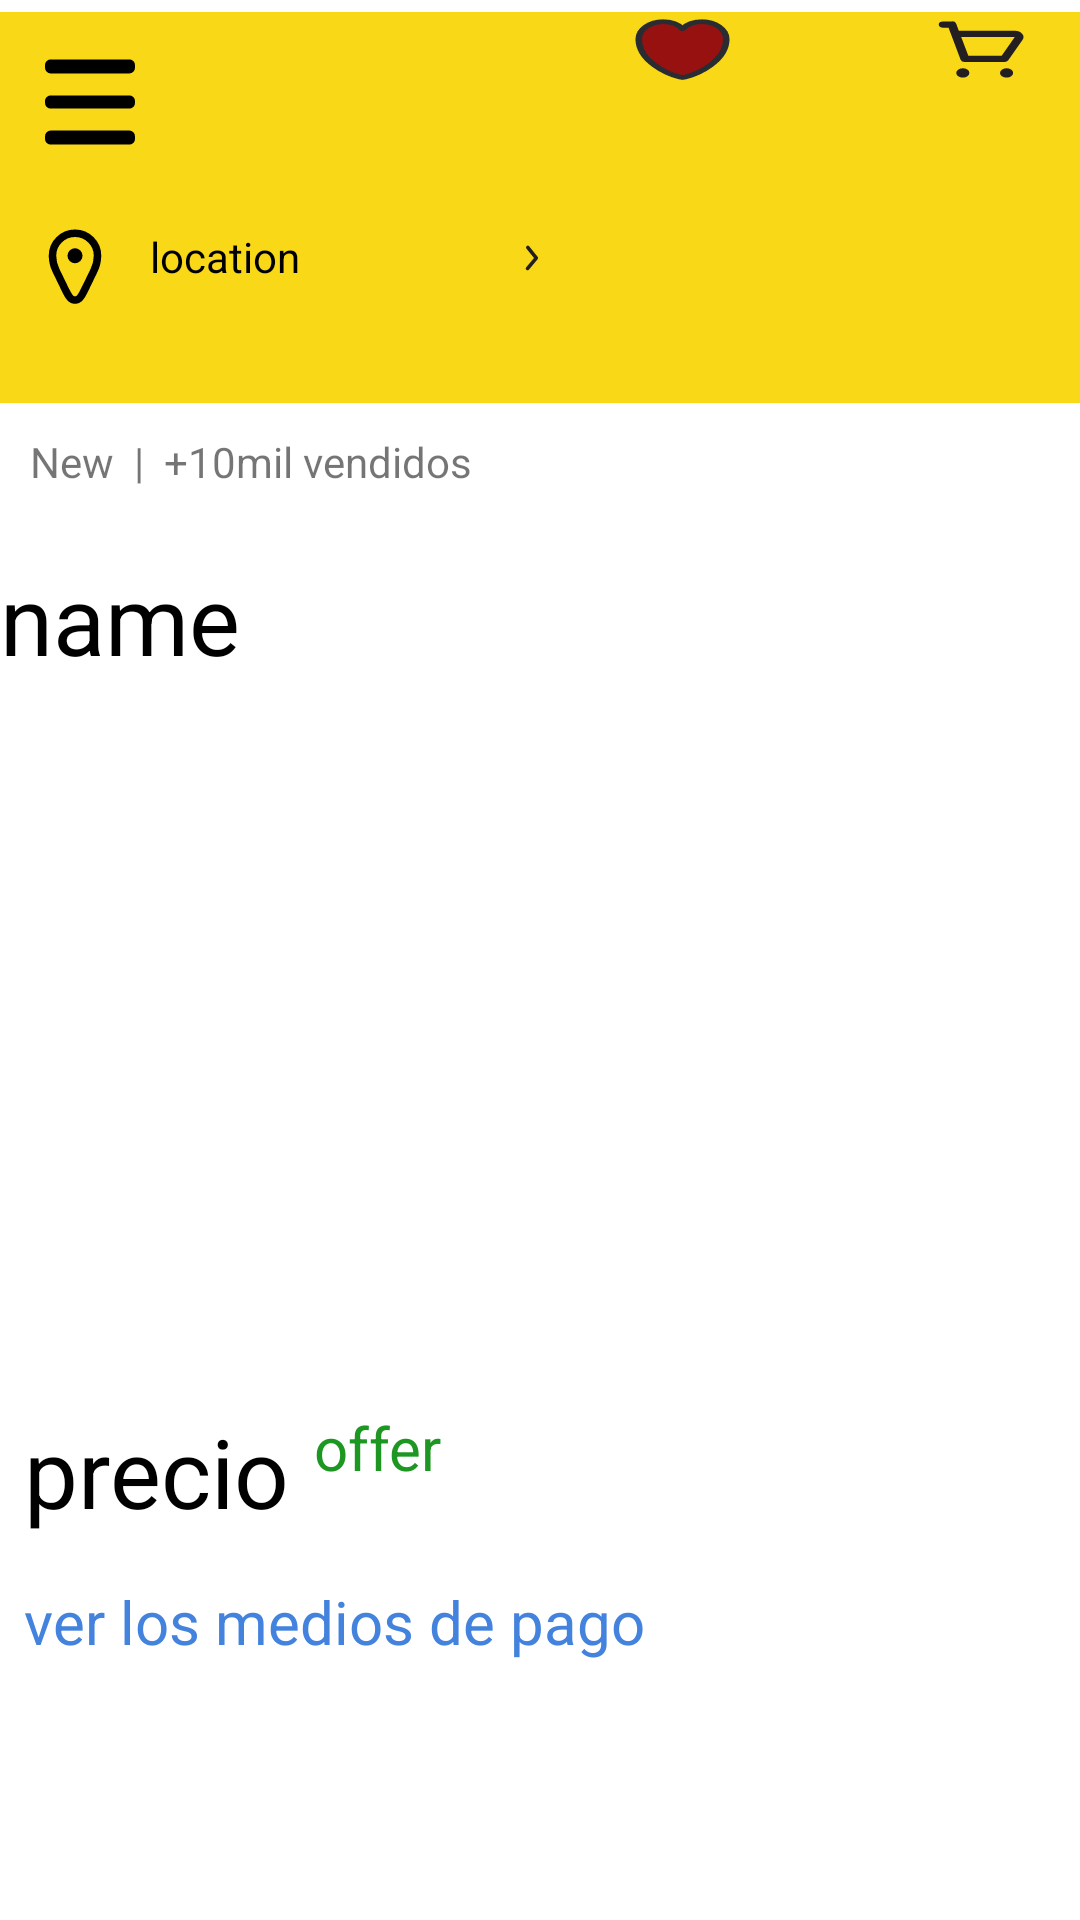

Icon bounding boxes for this 1080×1920 phone screenshot, format (x1, y1, x2, y2):
arrow: (525, 245, 538, 271)
heart: (635, 19, 730, 80)
navi drawer: (45, 59, 135, 145)
shopping cart: (938, 21, 1024, 78)
